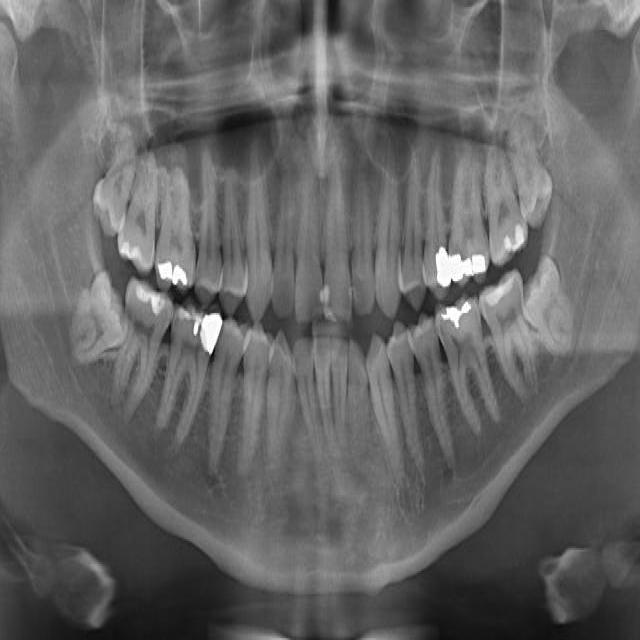dolgu: (175, 304, 226, 363), (448, 226, 491, 286), (490, 201, 530, 258), (150, 248, 192, 296), (437, 290, 477, 340), (420, 238, 452, 300)
